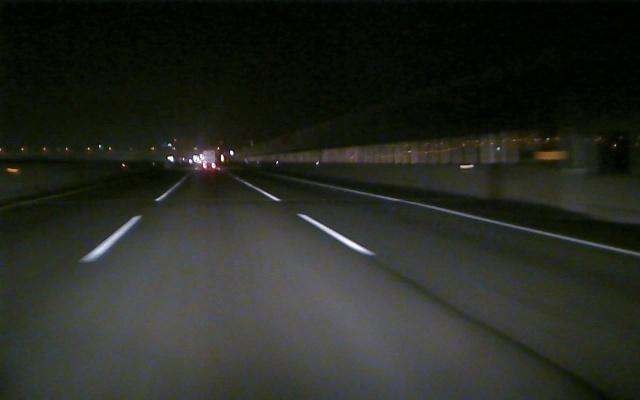lane: (329, 186, 637, 258), (242, 180, 376, 258), (79, 191, 169, 264)
